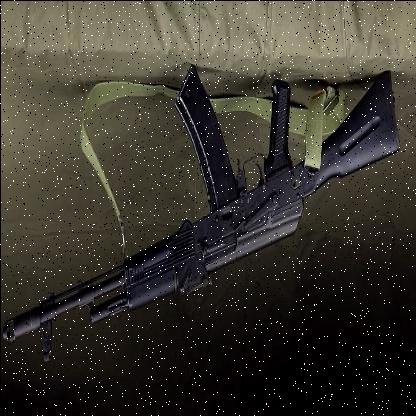rifle: (21, 67, 400, 355)
